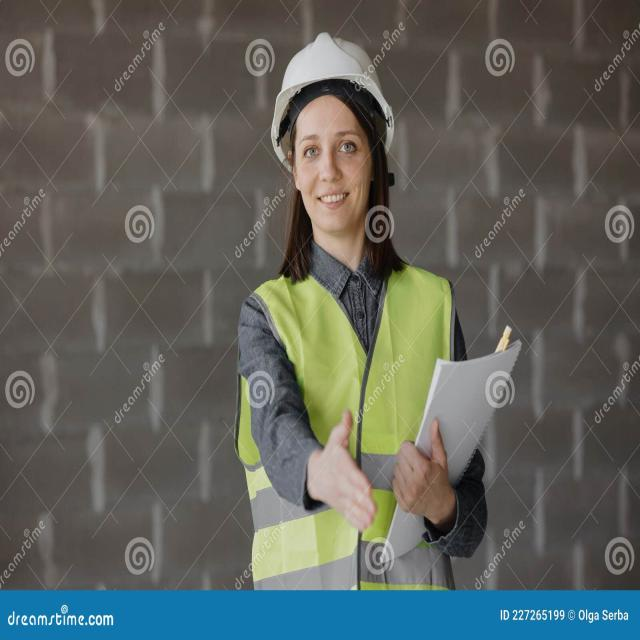helmet: (270, 26, 396, 170)
no-goggles: (292, 131, 376, 170)
vest: (237, 256, 463, 599)
